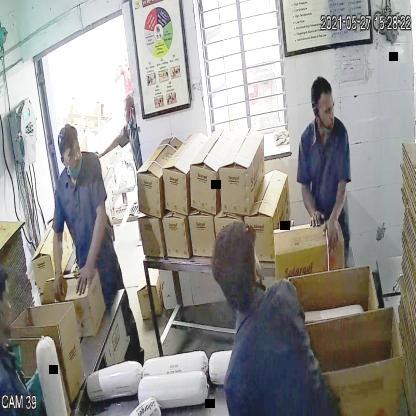no_goggles: (311, 100, 336, 120), (58, 141, 81, 162)
